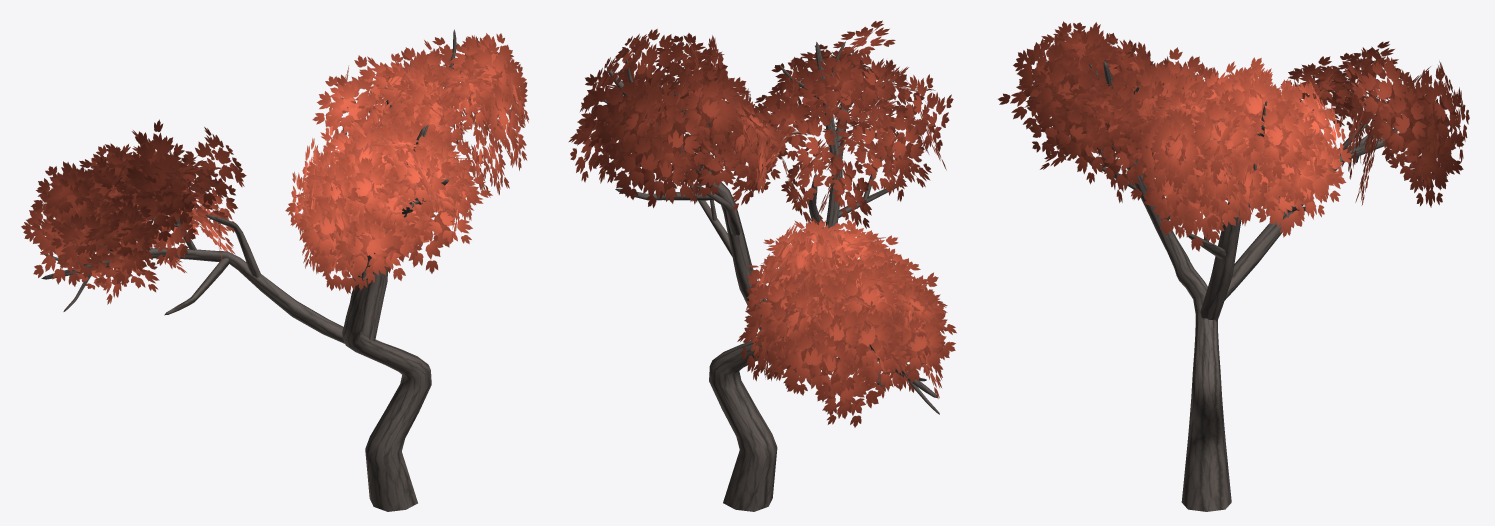
The model's file is trueno.glb.
3 renders of one model, left to right at view 1: azimuth 30°, elevation 25°; view 2: azimuth 150°, elevation 25°; view 3: azimuth 270°, elevation 25°, orthographic. The views are drawn at different scales.
Visible parts, largest first — view 1: trueno; view 2: trueno; view 3: trueno.
Part boxes in pixels (x1,y1,x2,y2): trueno: [21, 29, 529, 511]; trueno: [568, 20, 956, 511]; trueno: [998, 21, 1469, 511].
Size of the model in its own units: 10.98 by 11 by 10.23.
2 materials, 2 textured.
